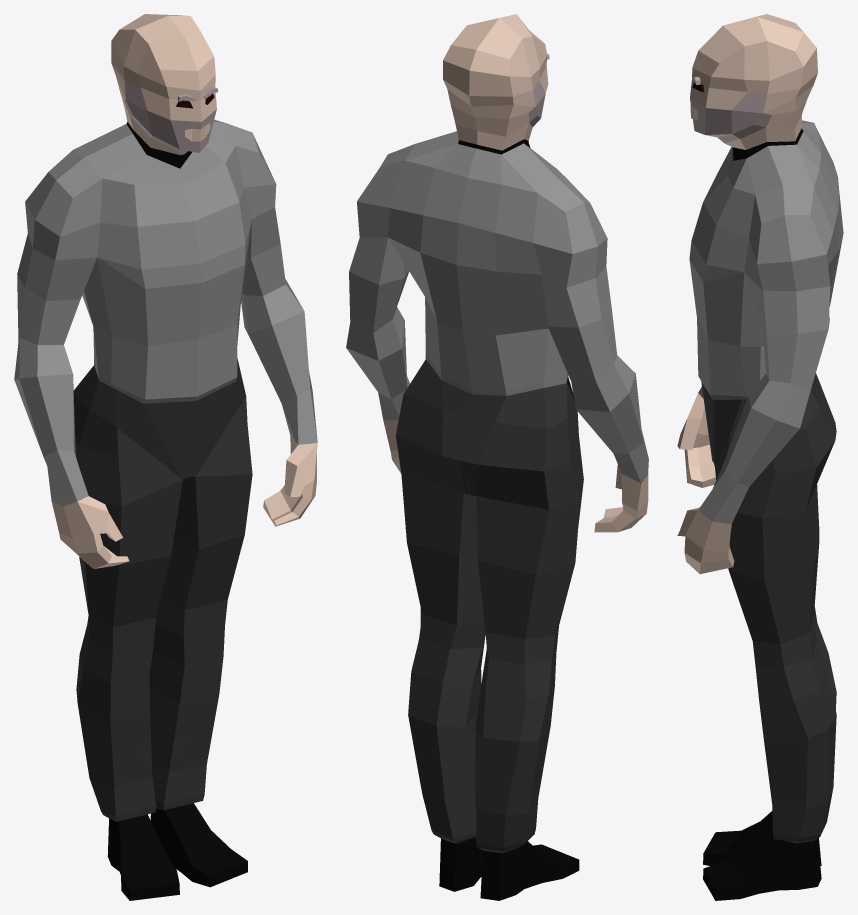
File: joelubin.fbx
3 views of the same model, side by side, from view 1: azimuth 30°, elevation 25°; view 2: azimuth 150°, elevation 25°; view 3: azimuth 270°, elevation 25° (orthographic).
Parts seen in each view (by area): view 1: Cube.005, Cube.003; view 2: Cube.003, Cube.005; view 3: Cube.003, Cube.005.
Part boxes in pixels (x1,y1,x2,y2): Cube.005: (19,14,317,900); Cube.003: (14,14,317,900); Cube.003: (346,16,648,900); Cube.005: (372,14,648,900); Cube.003: (677,14,843,900); Cube.005: (677,17,836,900).
Size of the model in its own units: 56.9 by 167 by 29.4.
